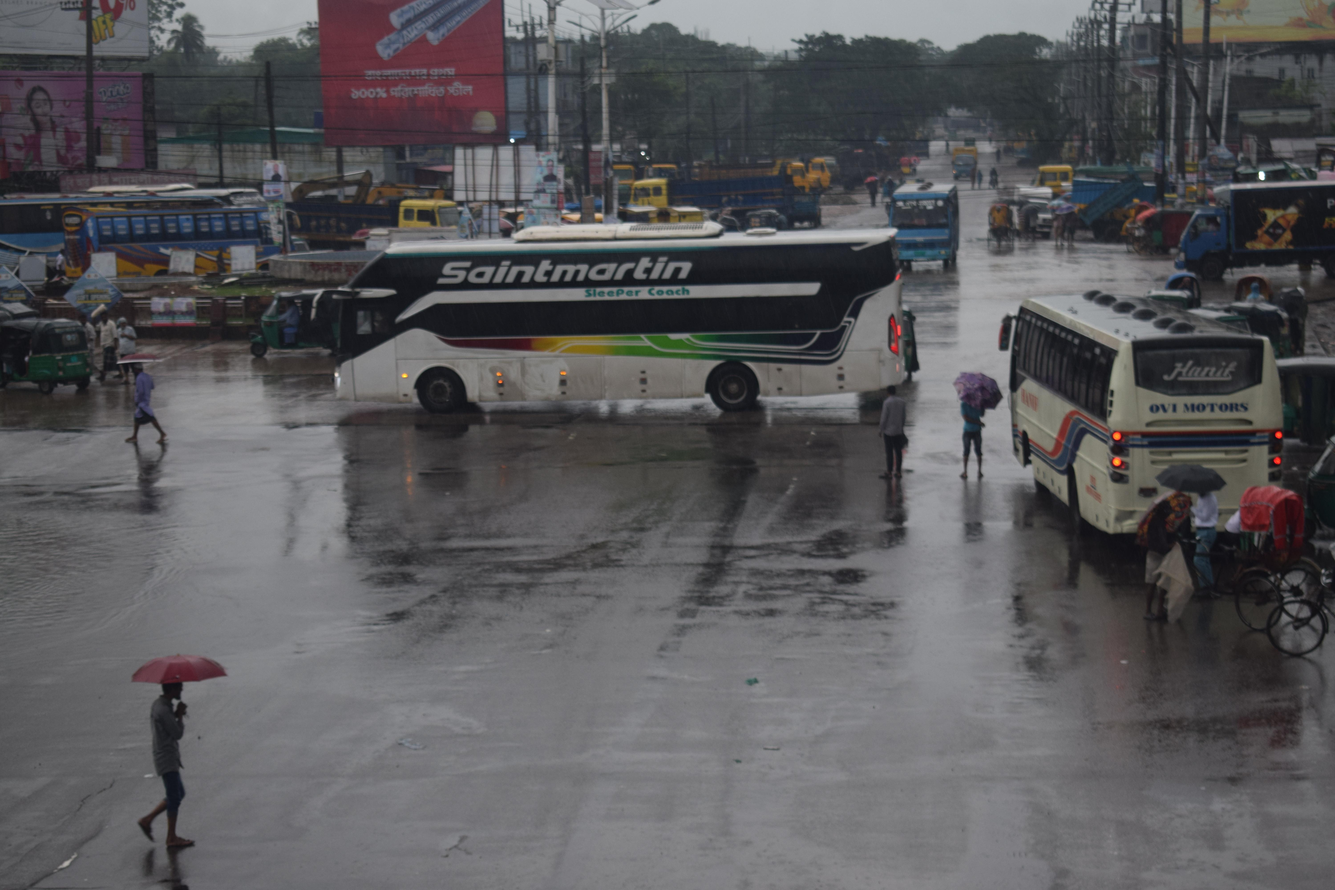Bus: (306, 227, 937, 435), (975, 268, 1297, 567), (32, 195, 296, 299), (0, 170, 140, 312), (866, 167, 978, 286)
Car: (1135, 483, 1335, 677)
Truck: (1136, 168, 1335, 295), (619, 145, 794, 232), (282, 181, 466, 234)
